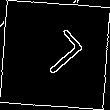L_SW: (26, 27, 84, 83)
